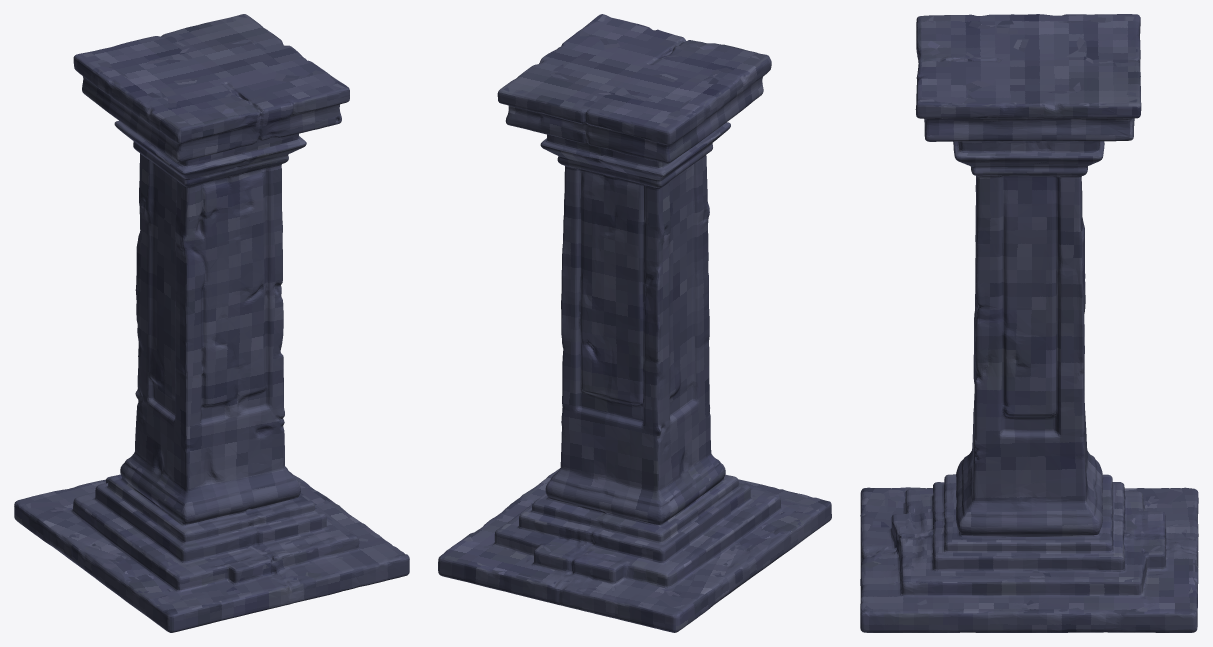
File: weathered-monolith-pillar-generated-2026-04-19T23-48-08-244Z.high.glb
3 views of the same model, side by side, from view 1: azimuth 30°, elevation 25°; view 2: azimuth 150°, elevation 25°; view 3: azimuth 270°, elevation 25° (orthographic). The views are drawn at different scales.
Parts seen in each view (by area): view 1: temp_mesh.ply; view 2: temp_mesh.ply; view 3: temp_mesh.ply.
Boxes of the visible parts, x1,y1,x2,y2 form: temp_mesh.ply: (14,14,409,632); temp_mesh.ply: (438,14,831,632); temp_mesh.ply: (860,14,1198,632).
Size of the model in its own units: 1.05 by 1.97 by 1.18.
Materials: 1 (1 with a texture image).
